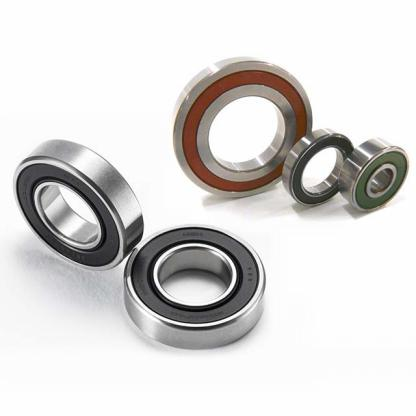FOD: (169, 42, 315, 193), (115, 219, 272, 354), (12, 137, 147, 272), (284, 126, 352, 212), (350, 133, 412, 215)
